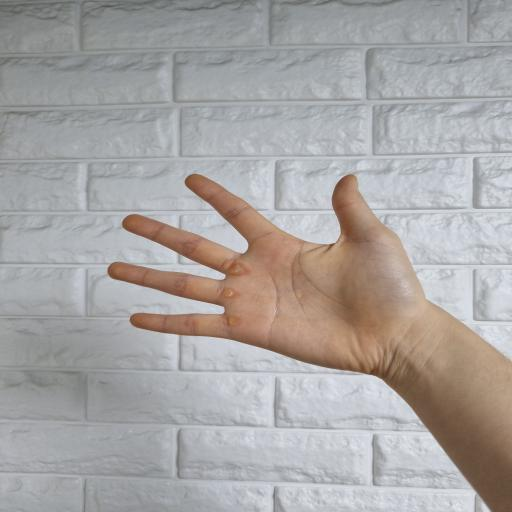Paper: (107, 172, 512, 512)
